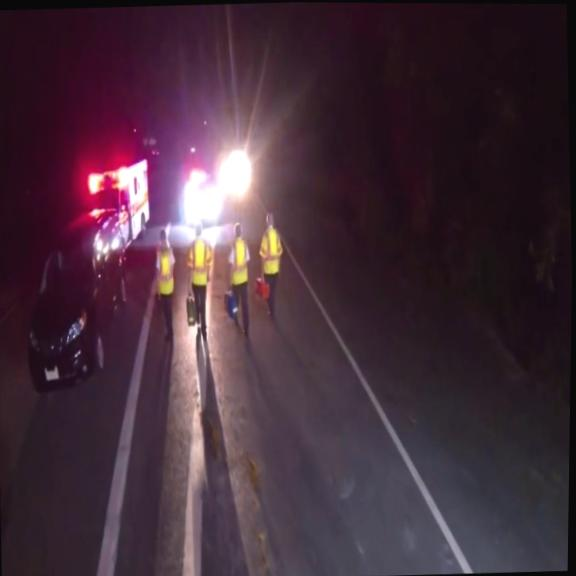safety_vest: (257, 226, 286, 276), (185, 237, 212, 287), (229, 236, 251, 286), (155, 245, 176, 296)
